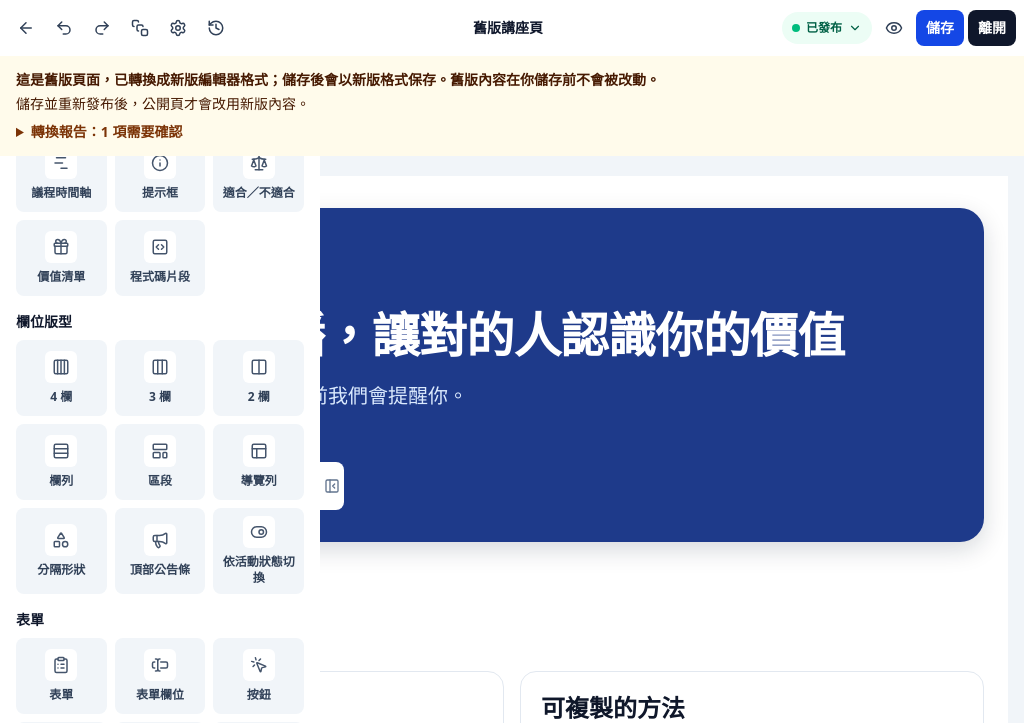
opening a legacy page › blocks those actions again once the merchant really edits the converted page
(page scrolled)
Click the button "區段": (160, 462) [115,424,205,500]
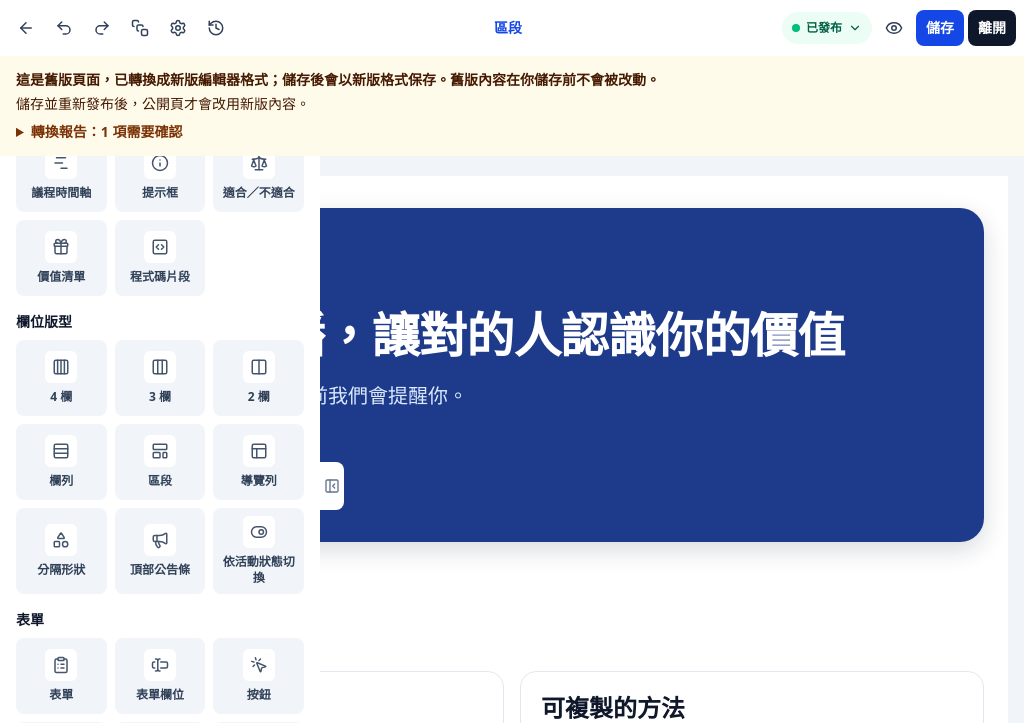
Click the button "已發布": (827, 28) [782,12,872,44]
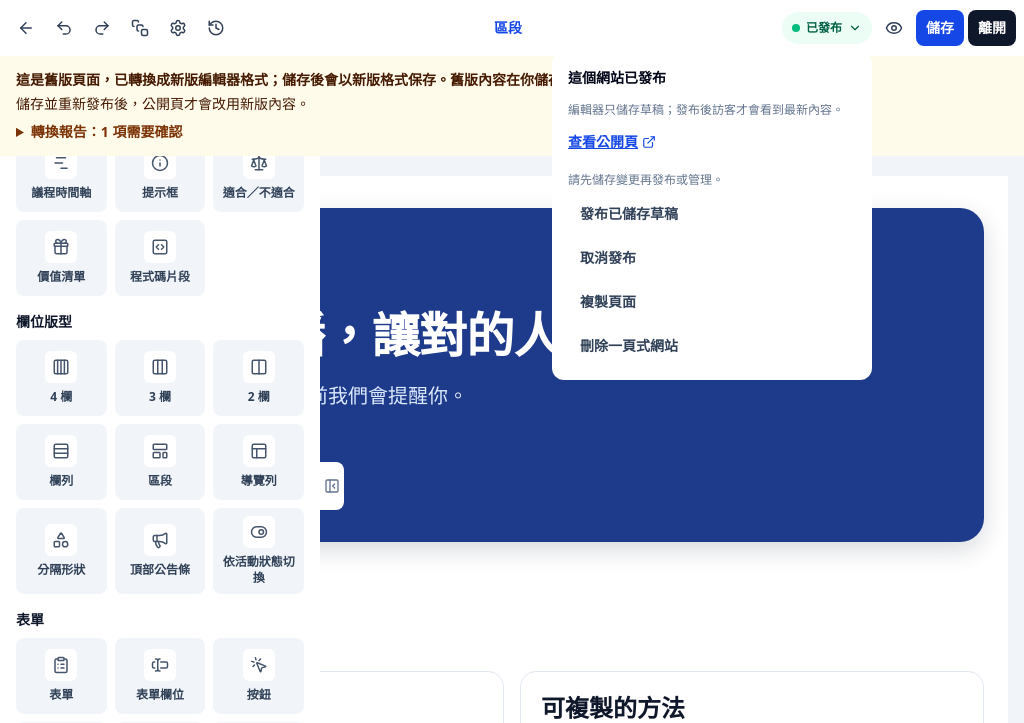
Check: the button "取消發布" is disabled, box [568,240,856,276]
Check: the element named "公開網址狀態" shows "請先儲存變更再發布或管理。", box [568,171,724,188]
Click the button named "版本紀錄": (216, 28) [198,10,234,46]
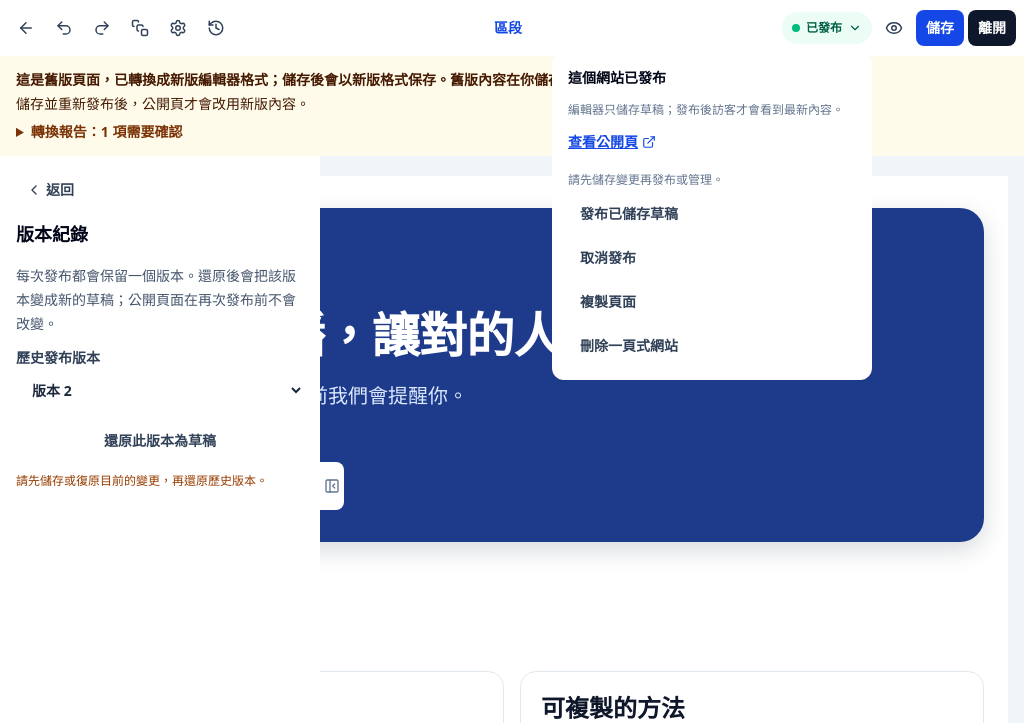
Check: the button "還原此版本為草稿" is disabled, box [16,421,304,461]
